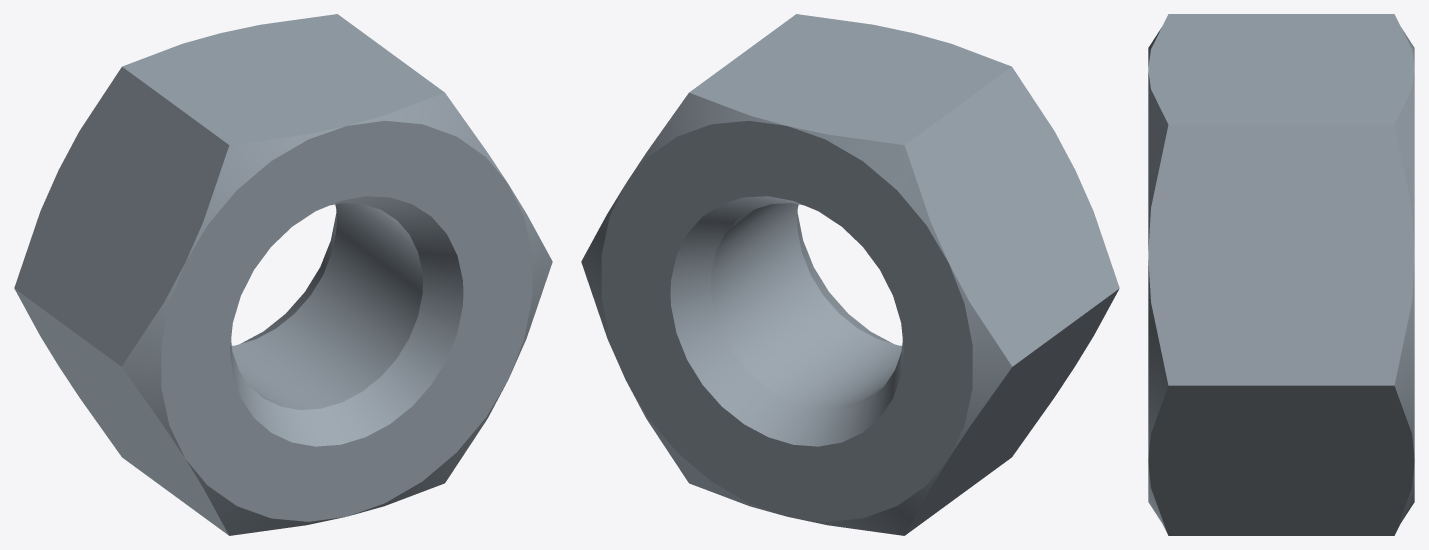
Rendered from Hex_nut_grade_A___B_M5x0_8.obj.
3 views of the same model, side by side, from view 1: azimuth 30°, elevation 25°; view 2: azimuth 150°, elevation 25°; view 3: azimuth 270°, elevation 25° (orthographic). The views are drawn at different scales.
Visible parts, largest first — view 1: mesh3608, mesh3602, mesh3604, mesh3590, mesh3589, mesh3599, mesh3603, mesh3600, mesh3605, mesh3601, mesh3607, mesh3611 (+1 smaller); view 2: mesh3592, mesh3602, mesh3604, mesh3590, mesh3591, mesh3599, mesh3597, mesh3598, mesh3596, mesh3593, mesh3595, mesh3594 (+1 smaller); view 3: mesh3606, mesh3609, mesh3604, mesh3595, mesh3607, mesh3596, mesh3605.
Part boxes in pixels (x1,y1,x2,y2): mesh3608: (161, 120, 532, 521); mesh3602: (14, 67, 229, 366); mesh3604: (122, 14, 444, 144); mesh3590: (232, 203, 422, 409); mesh3589: (230, 196, 463, 446); mesh3599: (15, 289, 228, 535); mesh3603: (186, 126, 344, 260); mesh3600: (122, 265, 184, 456); mesh3605: (349, 92, 507, 182); mesh3601: (186, 460, 344, 535); mesh3607: (509, 185, 552, 375); mesh3611: (348, 383, 506, 516); mesh3592: (601, 120, 972, 521); mesh3602: (904, 67, 1119, 366); mesh3604: (689, 14, 1011, 144); mesh3590: (711, 203, 901, 409); mesh3591: (670, 196, 903, 446); mesh3599: (905, 289, 1118, 535); mesh3597: (789, 126, 947, 260); mesh3598: (949, 265, 1011, 456); mesh3596: (626, 92, 784, 182); mesh3593: (789, 460, 947, 535); mesh3595: (581, 185, 624, 375); mesh3594: (627, 383, 785, 516); mesh3606: (1148, 124, 1414, 385); mesh3609: (1148, 385, 1414, 535); mesh3604: (1148, 14, 1414, 124); mesh3595: (1394, 260, 1414, 457); mesh3607: (1148, 260, 1168, 457); mesh3596: (1394, 72, 1414, 249); mesh3605: (1148, 72, 1168, 249).
Bounding box in the file's own units: 0.00924 × 0.008 × 0.0047.
